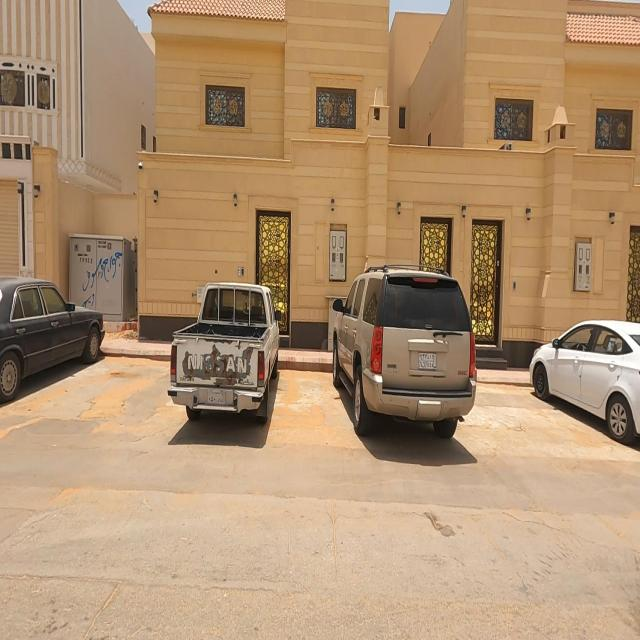Graffiti: (82, 251, 123, 309)
